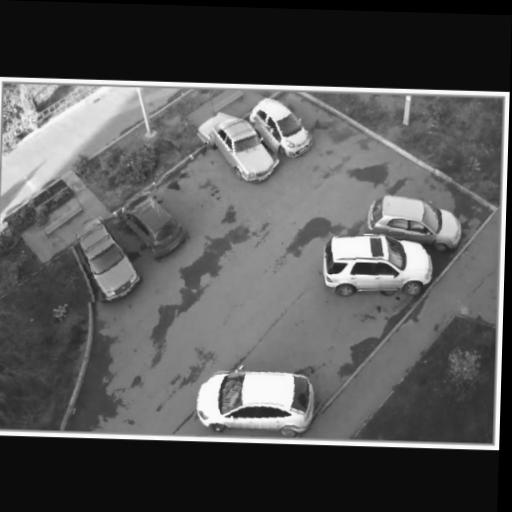busy: (191, 363, 324, 437), (318, 233, 438, 296), (75, 215, 145, 304), (204, 116, 281, 185), (364, 194, 461, 247), (121, 190, 189, 258), (250, 100, 317, 159)
free: (285, 307, 362, 371), (154, 170, 235, 218)
